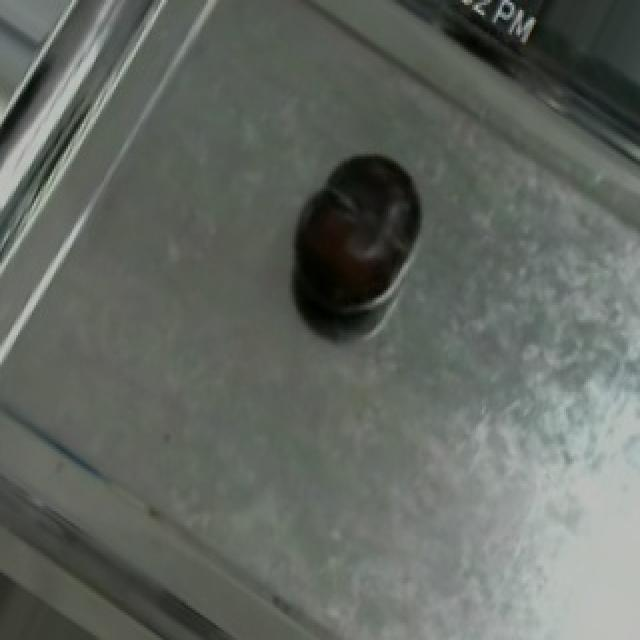Fruit: (280, 131, 446, 335)
